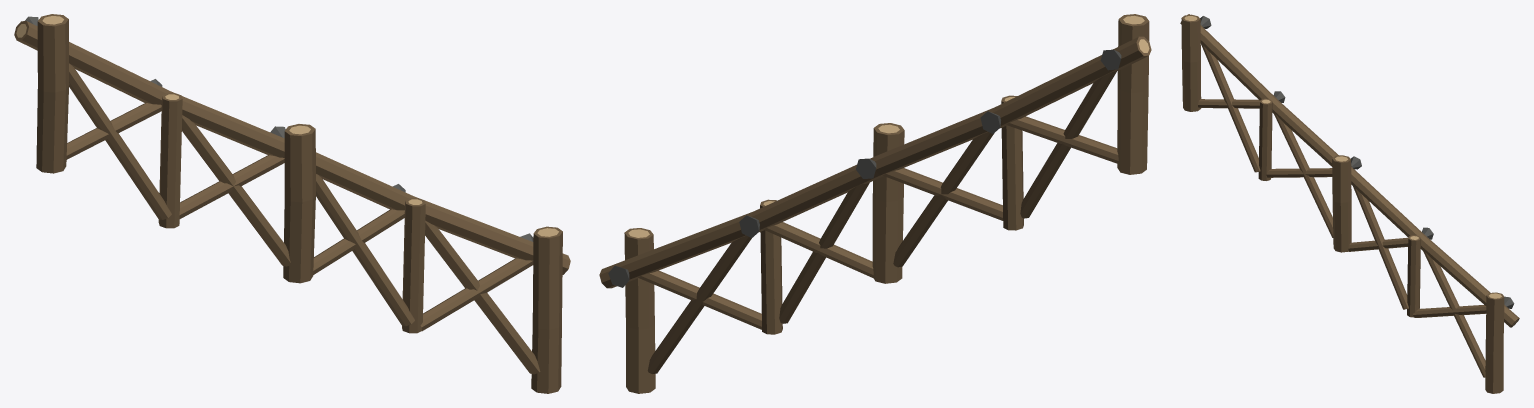
Rendered from rpgpp_ag_wall_platform_stairs_02a_4m_handrail_01.fbx.
3 renders of one model, left to right at view 1: azimuth 30°, elevation 25°; view 2: azimuth 150°, elevation 25°; view 3: azimuth 330°, elevation 25°, orthographic. The views are drawn at different scales.
Visible parts, largest first — view 1: rpgpp_ag_wall_platform_stairs_02a_4m_handrail_01; view 2: rpgpp_ag_wall_platform_stairs_02a_4m_handrail_01; view 3: rpgpp_ag_wall_platform_stairs_02a_4m_handrail_01.
Part boxes in pixels (x1,y1,x2,y2): rpgpp_ag_wall_platform_stairs_02a_4m_handrail_01: (14, 14, 570, 393); rpgpp_ag_wall_platform_stairs_02a_4m_handrail_01: (599, 14, 1151, 393); rpgpp_ag_wall_platform_stairs_02a_4m_handrail_01: (1180, 14, 1519, 393).
Size of the model in its own units: 6.23 by 5.28 by 0.6083.
